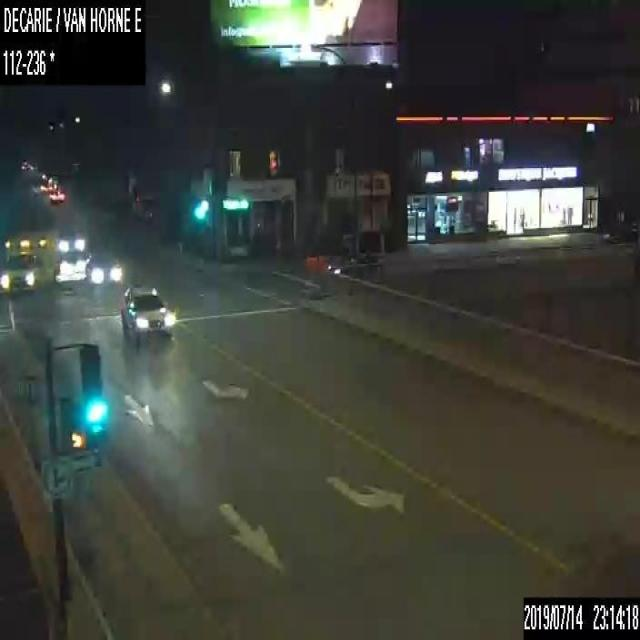construction: (18, 372, 43, 469), (304, 252, 316, 298), (318, 254, 329, 298)
vehicle: (1, 228, 58, 290), (120, 285, 175, 340), (85, 251, 121, 285), (328, 251, 379, 273), (602, 221, 639, 244), (48, 188, 64, 203)
